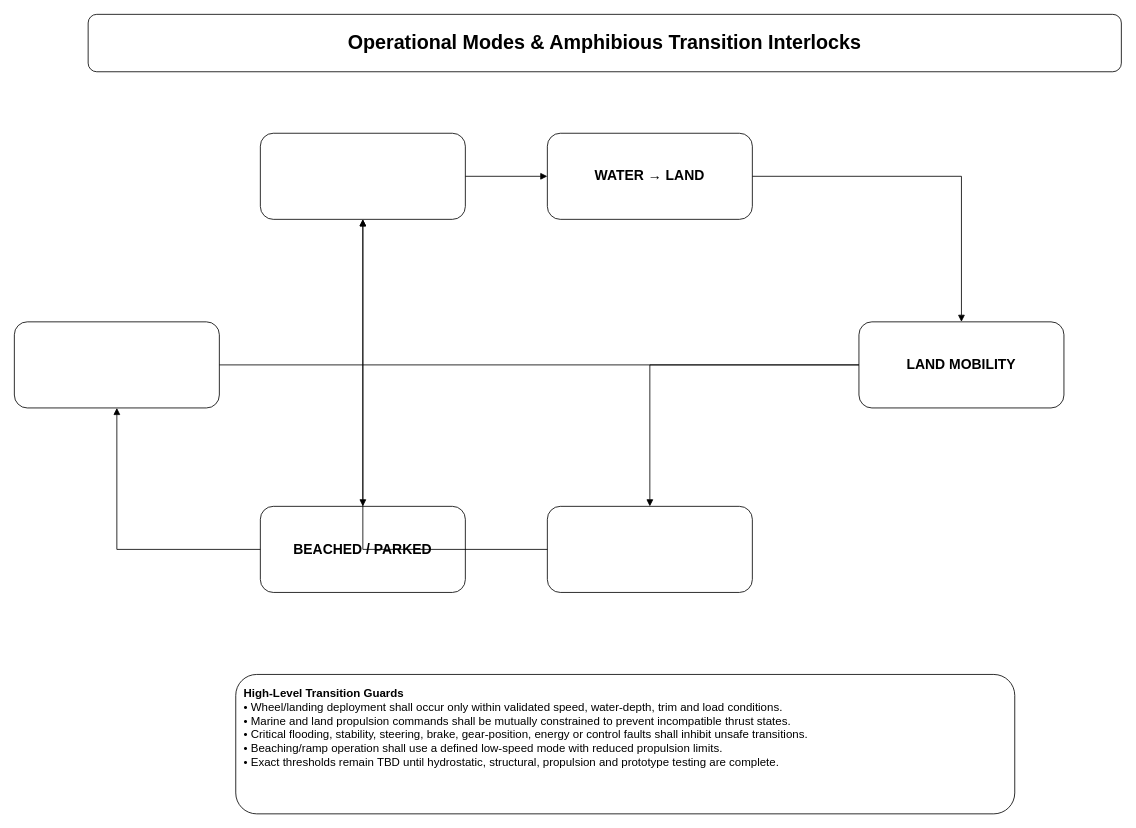
Some shapes in this 1136 by 828 pixel diagram are drawn without their labels. Each missing label, with the box of its shape:
LAND → WATER: (547, 506, 752, 592)
SAFE / OFF: (14, 321, 219, 408)
WATER NAVIGATION: (260, 132, 465, 219)
